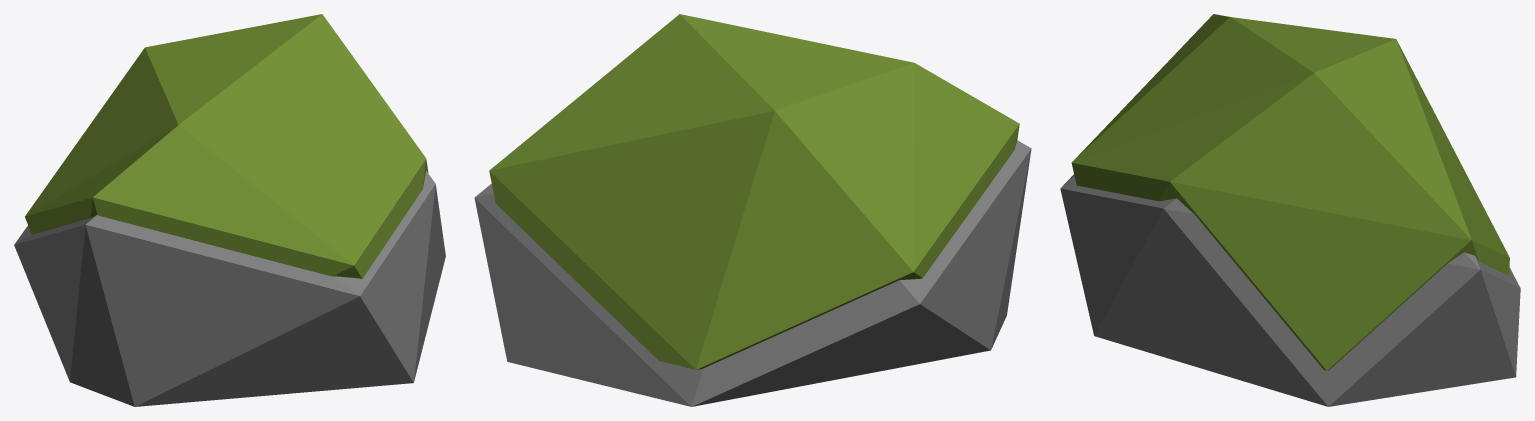
Rendered from Stone_3_moss_mat.fbx.
3 renders of one model, left to right at view 1: azimuth 30°, elevation 25°; view 2: azimuth 150°, elevation 25°; view 3: azimuth 270°, elevation 25°, orthographic. The views are drawn at different scales.
Visible parts, largest first — view 1: Stone_3_moss_mat; view 2: Stone_3_moss_mat; view 3: Stone_3_moss_mat.
Boxes of the visible parts, x1,y1,x2,y2 form: Stone_3_moss_mat: (14, 14, 445, 406); Stone_3_moss_mat: (474, 14, 1031, 406); Stone_3_moss_mat: (1060, 14, 1520, 406).
Bounding box in the file's own units: 0.9231 × 0.5905 × 0.897.
